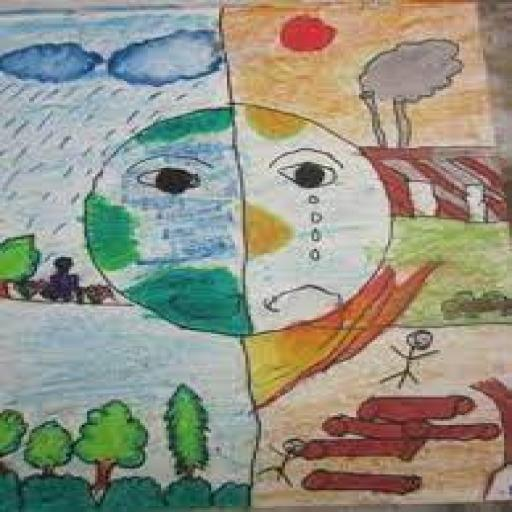person: (376, 327, 449, 386), (34, 247, 86, 317), (257, 430, 309, 492)
